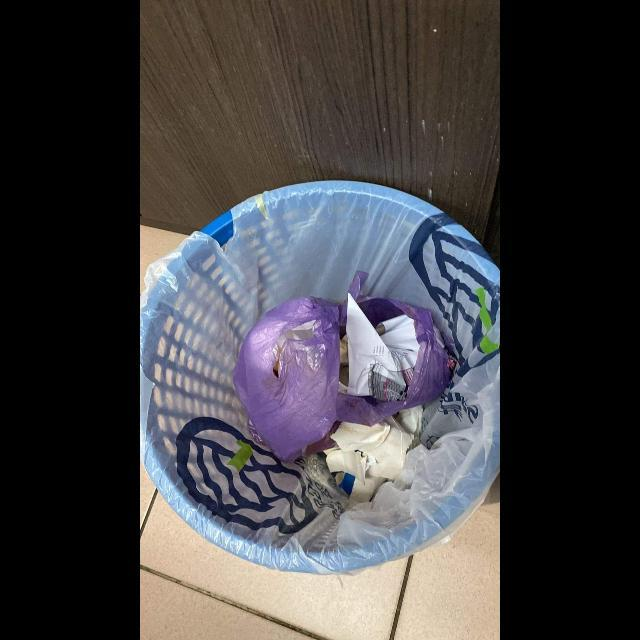paper: (324, 405, 423, 496), (346, 293, 420, 402)
plastic: (338, 270, 452, 426), (233, 297, 340, 461)
